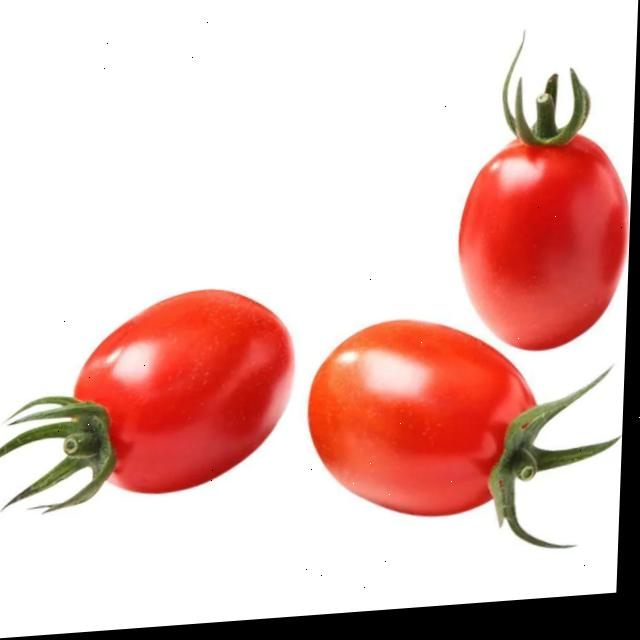overripe: (281, 311, 550, 567), (50, 276, 310, 525), (429, 88, 636, 371)
